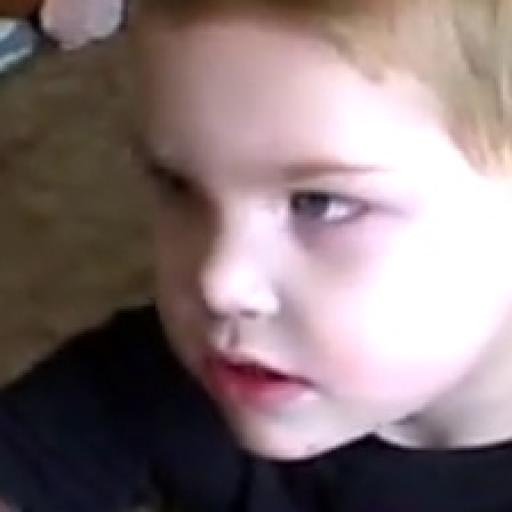Autism: (97, 0, 512, 508)
